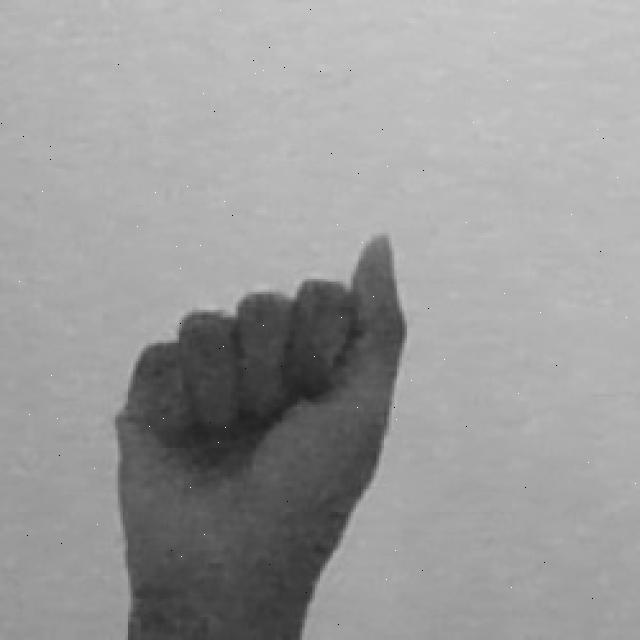A: (105, 217, 420, 640)
